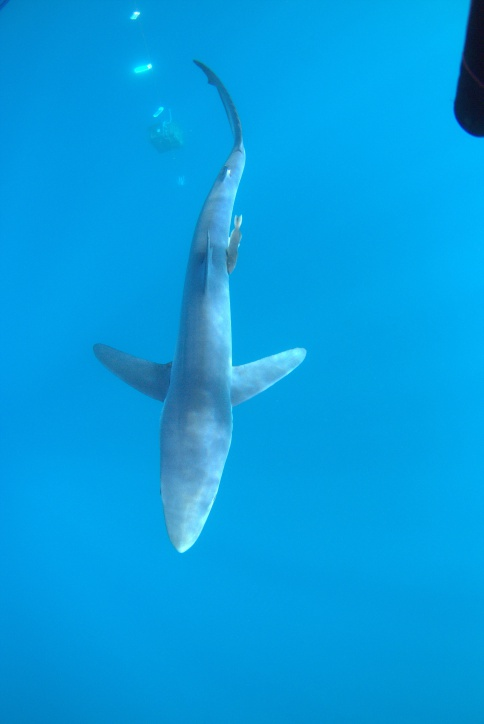Azul: (90, 44, 309, 565)
